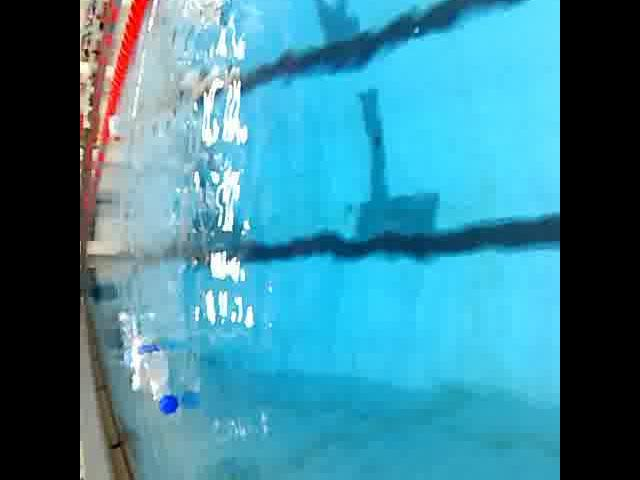Bottle: (128, 330, 184, 418), (116, 304, 148, 400), (106, 112, 125, 148)
